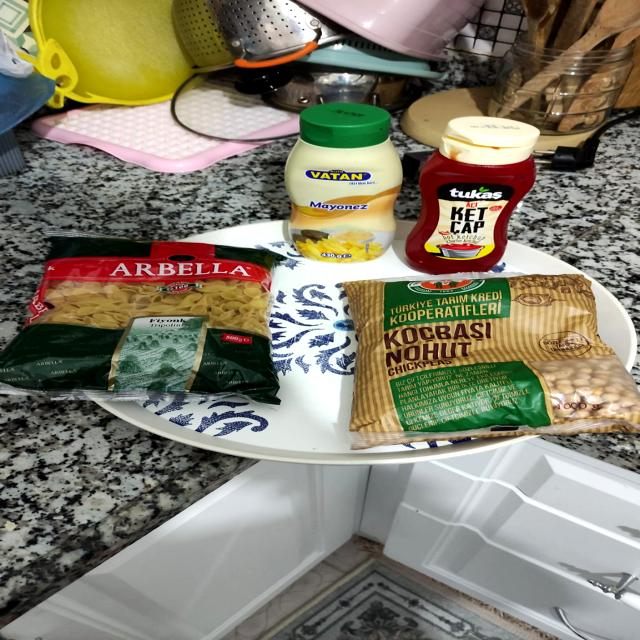chickpeas: (336, 272, 640, 445)
farfalle pasta: (0, 224, 294, 413)
ketchup: (413, 112, 544, 268)
mayonnaise: (259, 97, 407, 264)
